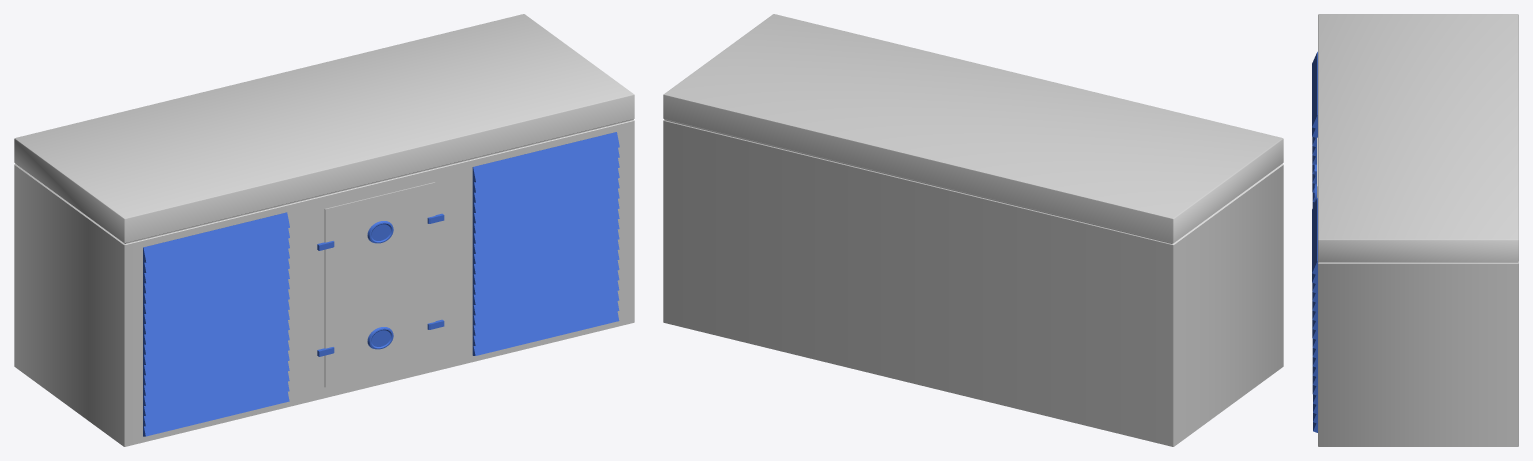
The model's file is table2.fbx.
The picture shows the model from 3 angles, left to right: view 1: azimuth 30°, elevation 25°; view 2: azimuth 150°, elevation 25°; view 3: azimuth 270°, elevation 25°; orthographic projection. The views are drawn at different scales.
Parts seen in each view (by area): view 1: Cube, Cube.001, Cube.002, Cylinder; view 2: Cube; view 3: Cube, Cube.001.
Boxes of the visible parts, bbox=[...] form: Cube: bbox=[14, 14, 634, 446]; Cube.001: bbox=[143, 132, 619, 436]; Cube.002: bbox=[324, 182, 435, 387]; Cylinder: bbox=[367, 221, 393, 349]; Cube: bbox=[663, 14, 1283, 446]; Cube: bbox=[1318, 14, 1518, 446]; Cube.001: bbox=[1312, 51, 1317, 432].
Size of the model in its own units: 1067 by 455 by 412.
